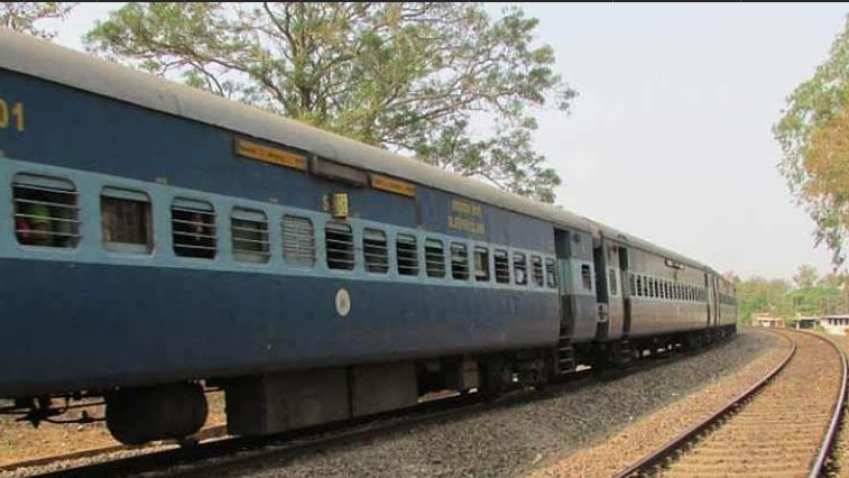train: (1, 32, 740, 442)
